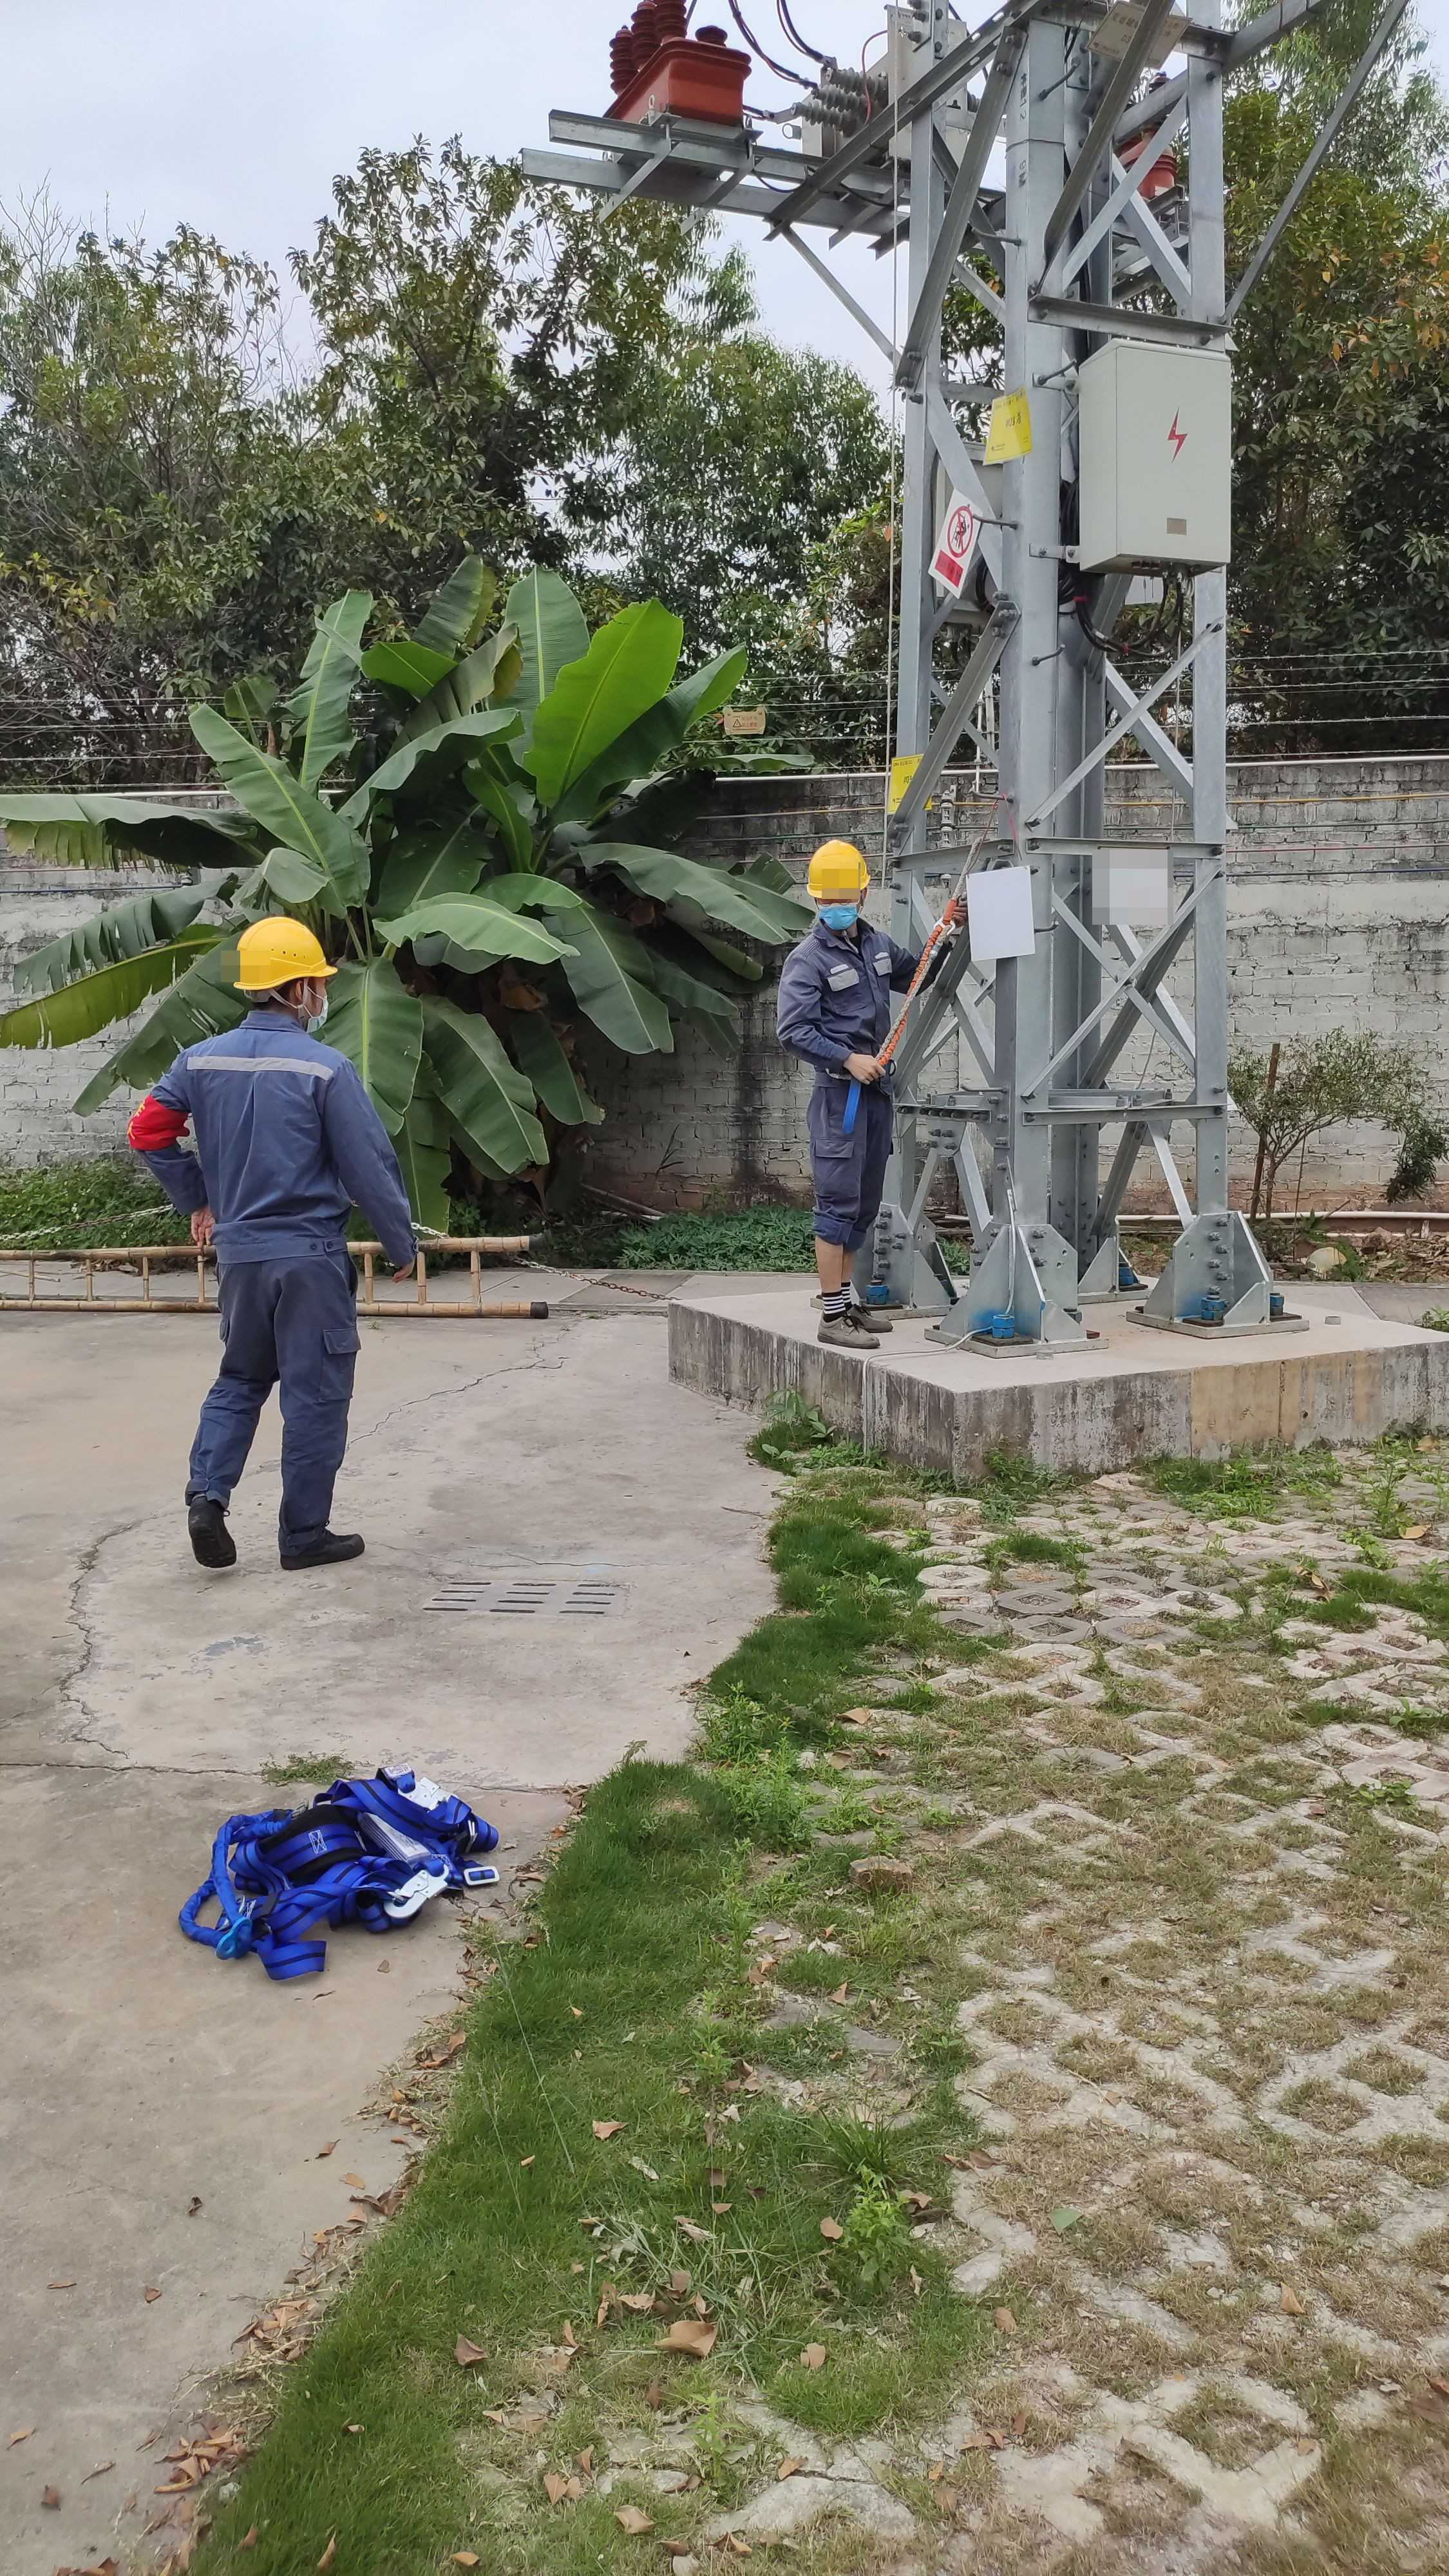downsuit: (186, 1276, 372, 1534), (805, 1086, 901, 1251)
upsuit: (134, 1019, 410, 1260), (784, 927, 902, 1079)
wrongbottom: (810, 1207, 863, 1304)
